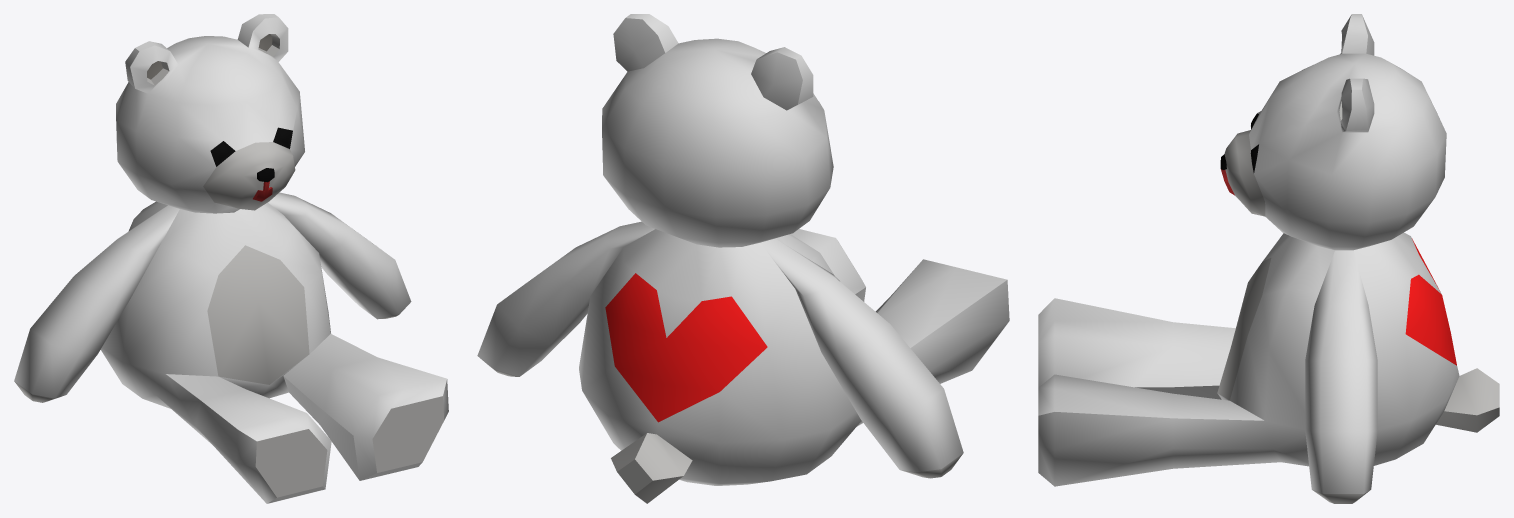
Rendered from Gomdol1-2.fbx.
The picture shows the model from 3 angles, left to right: view 1: azimuth 30°, elevation 25°; view 2: azimuth 150°, elevation 25°; view 3: azimuth 270°, elevation 25°; orthographic projection. The views are drawn at different scales.
Parts seen in each view (by area): view 1: Sphere008; view 2: Sphere008; view 3: Sphere008.
Part boxes in pixels (left/top/right/bottom): Sphere008: left=14, top=14, right=448, bottom=503; Sphere008: left=477, top=14, right=1009, bottom=503; Sphere008: left=1038, top=14, right=1499, bottom=503.
Bounding box in the file's own units: 2.52 × 2.26 × 2.38.
